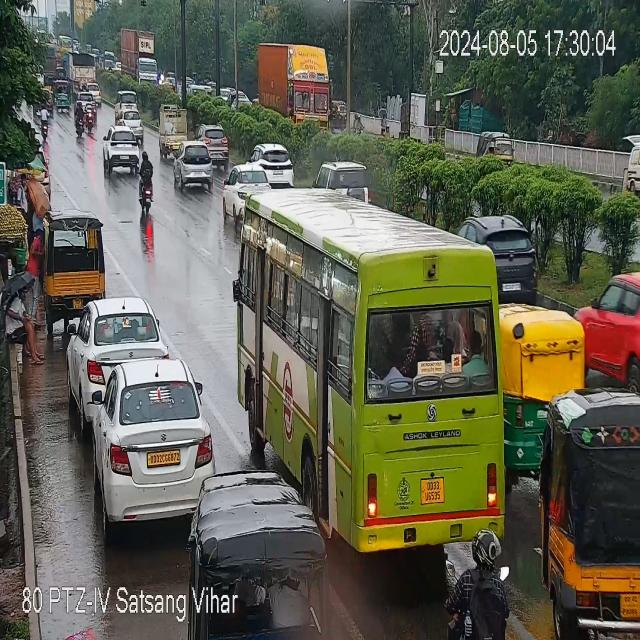2-wheelers: (442, 531, 514, 640), (135, 150, 159, 213), (39, 102, 55, 145), (351, 99, 368, 138), (74, 98, 87, 148), (85, 90, 96, 137), (385, 121, 394, 136)
auto: (538, 377, 640, 639), (501, 306, 596, 481), (47, 211, 118, 329), (475, 117, 522, 176), (53, 74, 74, 117), (332, 97, 351, 135)
bus: (226, 155, 518, 557)
car: (100, 372, 213, 526), (66, 287, 163, 433), (578, 244, 640, 387), (220, 157, 269, 232), (250, 140, 308, 191), (100, 118, 142, 186), (173, 136, 215, 192), (197, 111, 229, 171), (114, 90, 140, 113), (85, 75, 104, 105)
pedestrian: (3, 271, 39, 373), (26, 211, 47, 331), (28, 180, 47, 274), (17, 172, 31, 224), (379, 110, 387, 134)
truck: (255, 32, 330, 120), (122, 20, 164, 87), (160, 103, 189, 160)
